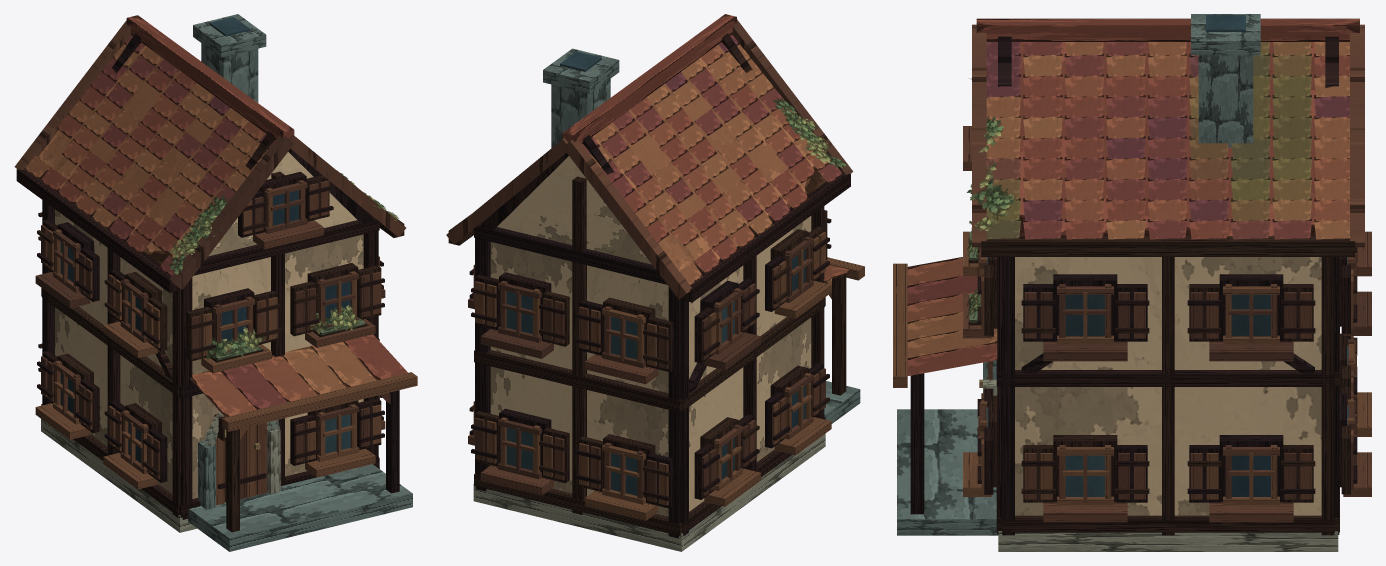
The model's file is cottage_tall.glb.
3 views of the same model, side by side, from view 1: azimuth 30°, elevation 25°; view 2: azimuth 150°, elevation 25°; view 3: azimuth 270°, elevation 25° (orthographic). The views are drawn at different scales.
Visible parts, largest first — view 1: cottage_tall; view 2: cottage_tall; view 3: cottage_tall.
Part boxes in pixels (bbox=[...]): cottage_tall: bbox=[14, 14, 417, 551]; cottage_tall: bbox=[446, 14, 864, 551]; cottage_tall: bbox=[893, 14, 1371, 551].
Size of the model in its own units: 3.07 by 4.79 by 4.2.
Materials: 6 (6 with a texture image).
